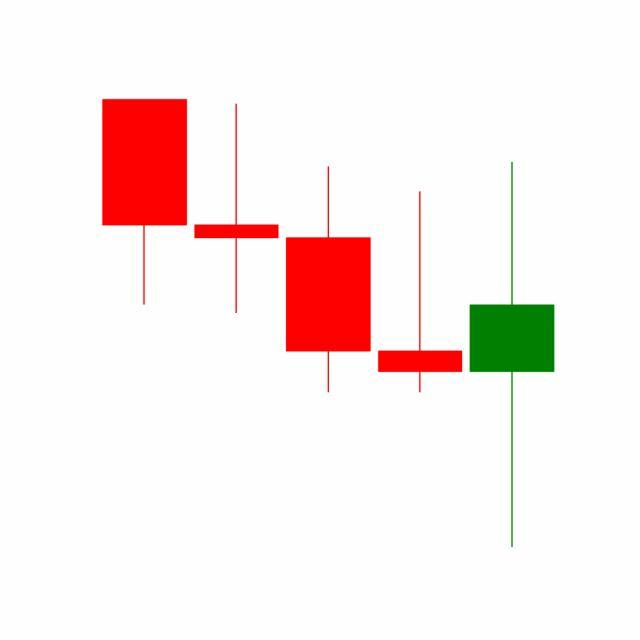Gravestone Doji: (374, 190, 468, 396)
